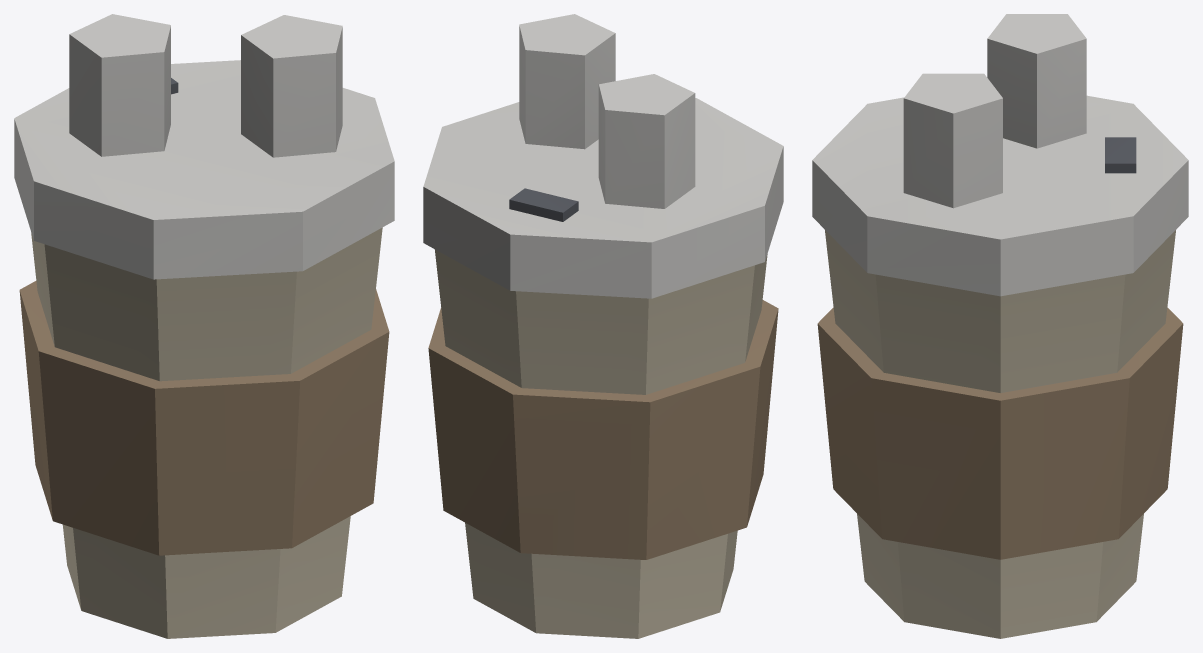
File: snack_cocoa_low.glb
3 views of the same model, side by side, from view 1: azimuth 30°, elevation 25°; view 2: azimuth 150°, elevation 25°; view 3: azimuth 270°, elevation 25° (orthographic). The views are drawn at different scales.
Visible parts, largest first — view 1: snack_cocoa; view 2: snack_cocoa; view 3: snack_cocoa.
Boxes of the visible parts, x1,y1,x2,y2 form: snack_cocoa: (14, 14, 394, 638); snack_cocoa: (423, 14, 783, 638); snack_cocoa: (812, 14, 1188, 638).
Size of the model in its own units: 0.072 by 0.11 by 0.072.
